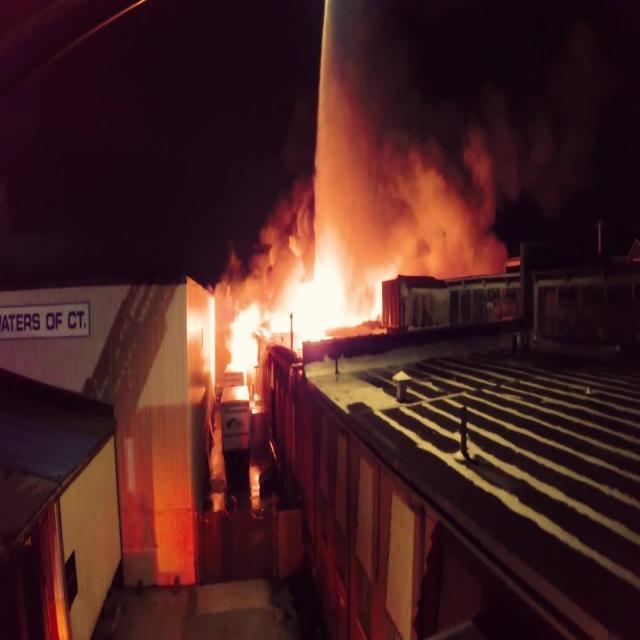Fire: (232, 235, 394, 383)
Smoke: (320, 0, 584, 257)
